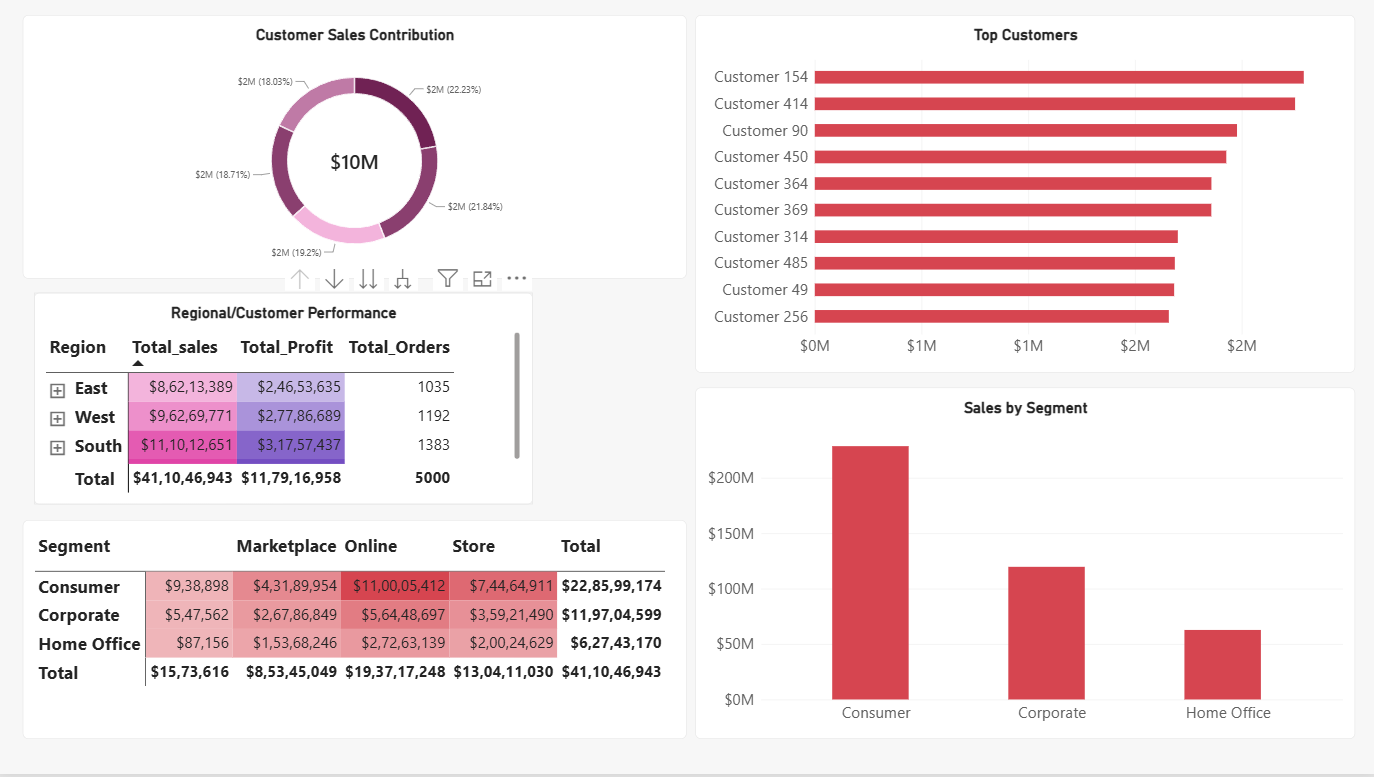

This screenshot's page, from the dashboard's own definition file:
{"tool":"powerbi","page":{"name":"Customer & Business Analysis","canvas":[1920,1080],"ordinal":2},"visuals":[{"type":"clusteredBarChart","title":"Top Customers","fields":{"Y":["retail_sales_customer_analytics.Total_sales"],"Category":["retail_sales_customer_analytics.Customer_Name"]},"box":[971.5,20.9,920.9,498.8],"z":0},{"type":"donutChart","title":"Customer Sales Contribution","fields":{"Category":["retail_sales_customer_analytics.Customer_Name"],"Y":["retail_sales_customer_analytics.Total_sales"]},"box":[33.1,20.9,926.2,368],"z":1000},{"type":"clusteredColumnChart","title":"Sales by Segment","fields":{"Category":["retail_sales_customer_analytics.Segment"],"Y":["retail_sales_customer_analytics.Total_sales"]},"box":[971.5,540.7,920.9,490.1],"z":2000},{"type":"pivotTable","fields":{"Rows":["retail_sales_customer_analytics.Segment"],"Columns":["retail_sales_customer_analytics.Sales_Channel"],"Values":["retail_sales_customer_analytics.Total_sales"]},"box":[33.1,725.6,926.2,305.2],"z":3000},{"type":"pivotTable","title":"Regional/Customer Performance","fields":{"Values":["retail_sales_customer_analytics.Total_sales","retail_sales_customer_analytics.Total_Profit","retail_sales_customer_analytics.Total_Orders"],"Rows":["retail_sales_customer_analytics.Region","retail_sales_customer_analytics.Customer_Name"]},"box":[49.4,407.5,695.7,296.4],"z":4000}]}

Visuals, with their boxes in screenshot pixels (x1, y1, x2, y2), scaled from the page's 1920x1080 canvas onto the 1374x777 screenshot:
"Top Customers" clusteredBarChart: 695 15 1354 374
"Customer Sales Contribution" donutChart: 24 15 686 280
"Sales by Segment" clusteredColumnChart: 695 389 1354 742
pivotTable - retail_sales_customer_analytics.Segment x retail_sales_customer_analytics.Sales_Channel: 24 522 686 742
"Regional/Customer Performance" pivotTable: 35 293 533 506
